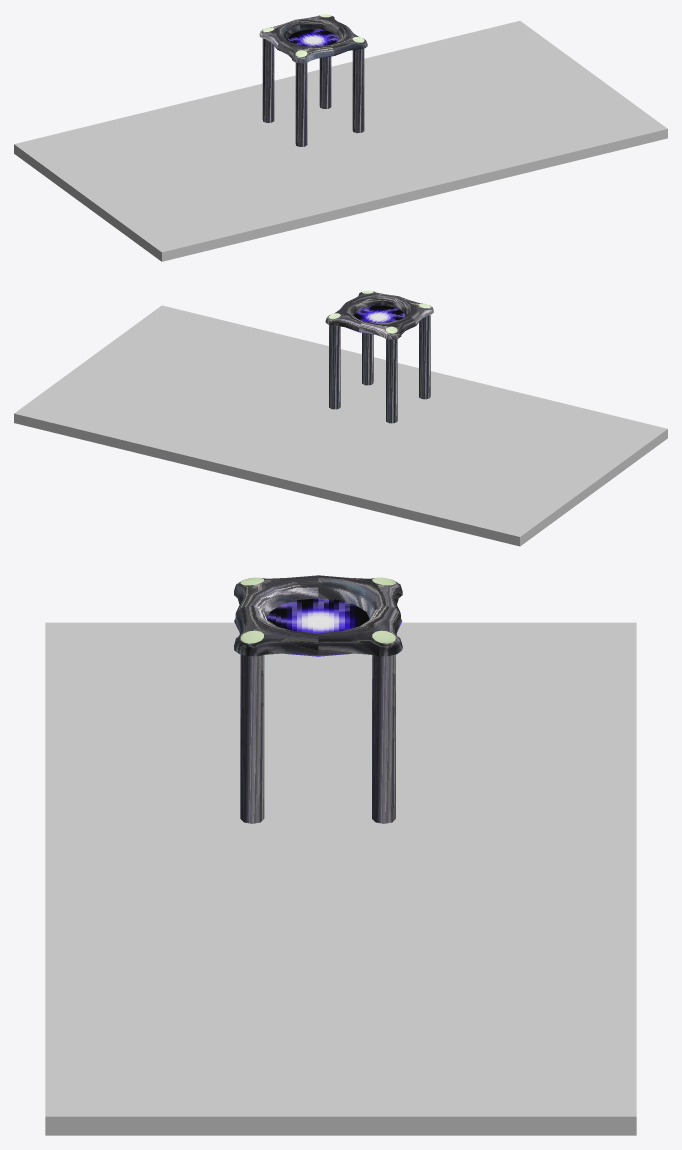
File: AnimTrafo.fbx
The picture shows the model from 3 angles, top to bottom: view 1: azimuth 30°, elevation 25°; view 2: azimuth 150°, elevation 25°; view 3: azimuth 270°, elevation 25°; orthographic projection. The views are drawn at different scales.
Visible parts, largest first — view 1: Box001, AnimTrafo_Bars, AnimTrafo_Ringpart1, AnimTrafo_Flashfield, AnimTrafo_Ringpart2, AnimTrafo_Ringpart4, AnimTrafo_Ringpart3; view 2: Box001, AnimTrafo_Bars, AnimTrafo_Ringpart4, AnimTrafo_Flashfield, AnimTrafo_Ringpart3, AnimTrafo_Ringpart1, AnimTrafo_Ringpart2; view 3: Box001, AnimTrafo_Bars, AnimTrafo_Flashfield, AnimTrafo_Ringpart2, AnimTrafo_Ringpart3, AnimTrafo_Ringpart1, AnimTrafo_Ringpart4.
Part boxes in pixels (box(x1,y1,x2,y2)): Box001: box(14, 21, 667, 261); AnimTrafo_Bars: box(262, 38, 364, 146); AnimTrafo_Ringpart1: box(277, 40, 334, 63); AnimTrafo_Flashfield: box(273, 29, 346, 58); AnimTrafo_Ringpart2: box(330, 26, 367, 55); AnimTrafo_Ringpart4: box(259, 20, 300, 48); AnimTrafo_Ringpart3: box(295, 14, 345, 34); Box001: box(14, 305, 667, 546); AnimTrafo_Bars: box(329, 315, 430, 423); AnimTrafo_Ringpart4: box(359, 316, 415, 339); AnimTrafo_Flashfield: box(346, 305, 420, 334); AnimTrafo_Ringpart3: box(325, 302, 363, 331); AnimTrafo_Ringpart1: box(393, 296, 433, 324); AnimTrafo_Ringpart2: box(347, 290, 398, 310); Box001: box(45, 622, 636, 1135); AnimTrafo_Bars: box(240, 654, 395, 823); AnimTrafo_Flashfield: box(234, 598, 402, 656); AnimTrafo_Ringpart2: box(234, 605, 318, 656); AnimTrafo_Ringpart3: box(318, 605, 402, 656); AnimTrafo_Ringpart1: box(234, 575, 318, 618); AnimTrafo_Ringpart4: box(318, 575, 402, 618).
Size of the model in its own units: 34.18 by 8.09 by 17.3.
4 materials, 3 textured.
